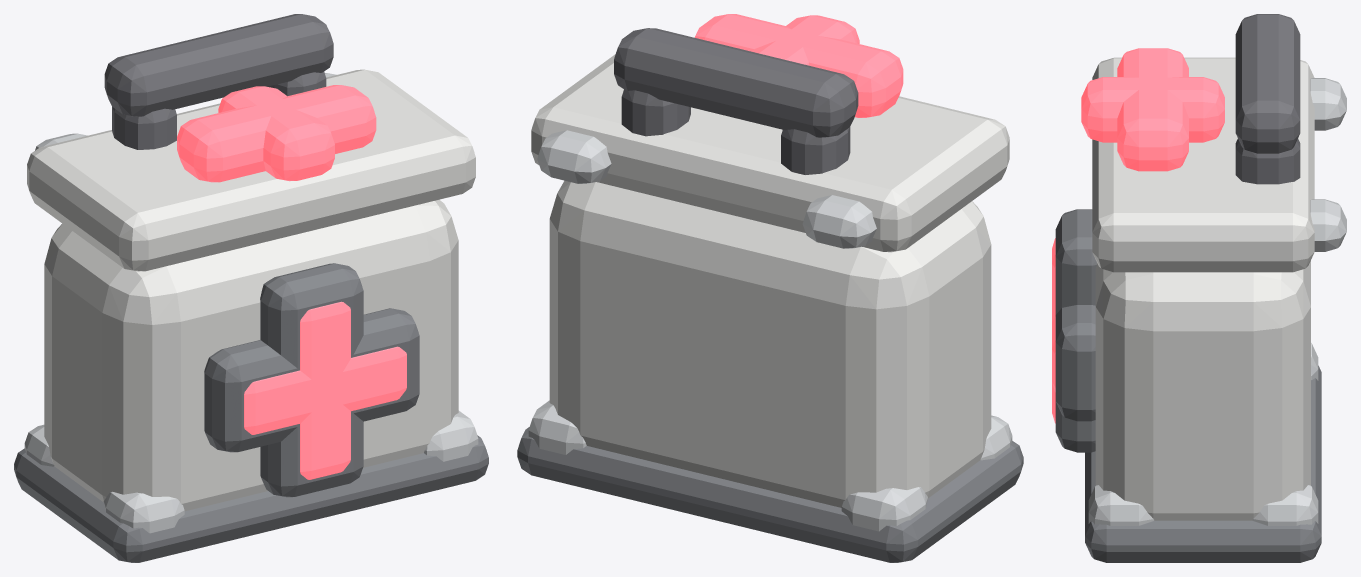
File: pickup_health_pack.glb
3 renders of one model, left to right at view 1: azimuth 30°, elevation 25°; view 2: azimuth 150°, elevation 25°; view 3: azimuth 270°, elevation 25°, orthographic. The views are drawn at different scales.
Visible parts, largest first — view 1: pickup_health_pack_body, pickup_health_pack_lid, pickup_health_pack_skirt, pickup_health_pack_handle_bar, pickup_health_pack_bezel_v, pickup_health_pack_bezel_h, pickup_health_pack_cross_top_h, pickup_health_pack_cross_v, pickup_health_pack_cross_h, pickup_health_pack_cross_top_v, pickup_health_pack_bumper_lf, pickup_health_pack_handle_post_l (+3 smaller); view 2: pickup_health_pack_body, pickup_health_pack_lid, pickup_health_pack_skirt, pickup_health_pack_handle_bar, pickup_health_pack_cross_top_h, pickup_health_pack_hinge_l, pickup_health_pack_hinge_r, pickup_health_pack_bumper_lb, pickup_health_pack_handle_post_l, pickup_health_pack_handle_post_r, pickup_health_pack_cross_top_v, pickup_health_pack_bumper_rb (+1 smaller); view 3: pickup_health_pack_body, pickup_health_pack_lid, pickup_health_pack_skirt, pickup_health_pack_handle_bar, pickup_health_pack_cross_top_h, pickup_health_pack_cross_top_v, pickup_health_pack_bezel_v, pickup_health_pack_bezel_h, pickup_health_pack_handle_post_r, pickup_health_pack_bumper_rb, pickup_health_pack_bumper_rf, pickup_health_pack_hinge_l (+2 smaller).
Boxes of the visible parts, x1,y1,x2,y2 form: pickup_health_pack_body: [44, 199, 458, 511]; pickup_health_pack_lid: [27, 69, 475, 271]; pickup_health_pack_skirt: [14, 435, 488, 562]; pickup_health_pack_handle_bar: [104, 14, 333, 116]; pickup_health_pack_bezel_v: [260, 263, 363, 497]; pickup_health_pack_bezel_h: [204, 308, 419, 452]; pickup_health_pack_cross_top_h: [177, 85, 376, 182]; pickup_health_pack_cross_v: [300, 301, 350, 479]; pickup_health_pack_cross_h: [244, 346, 406, 434]; pickup_health_pack_cross_top_v: [218, 86, 334, 181]; pickup_health_pack_bumper_lf: [103, 491, 184, 533]; pickup_health_pack_handle_post_l: [112, 107, 176, 149]; pickup_health_pack_body: [549, 180, 991, 507]; pickup_health_pack_lid: [531, 54, 1009, 252]; pickup_health_pack_skirt: [517, 427, 1023, 562]; pickup_health_pack_handle_bar: [614, 28, 858, 137]; pickup_health_pack_cross_top_h: [695, 14, 903, 117]; pickup_health_pack_hinge_l: [802, 195, 876, 248]; pickup_health_pack_hinge_r: [537, 130, 611, 183]; pickup_health_pack_bumper_lb: [841, 487, 927, 531]; pickup_health_pack_handle_post_l: [781, 127, 850, 174]; pickup_health_pack_handle_post_r: [621, 89, 690, 136]; pickup_health_pack_cross_top_v: [751, 15, 859, 65]; pickup_health_pack_bumper_rb: [528, 400, 586, 454]; pickup_health_pack_body: [1095, 260, 1310, 520]; pickup_health_pack_lid: [1092, 57, 1314, 272]; pickup_health_pack_skirt: [1085, 365, 1321, 562]; pickup_health_pack_handle_bar: [1235, 14, 1300, 153]; pickup_health_pack_cross_top_h: [1117, 48, 1188, 171]; pickup_health_pack_cross_top_v: [1081, 77, 1224, 142]; pickup_health_pack_bezel_v: [1055, 209, 1096, 452]; pickup_health_pack_bezel_h: [1055, 305, 1095, 421]; pickup_health_pack_handle_post_r: [1235, 138, 1300, 184]; pickup_health_pack_bumper_rb: [1252, 485, 1318, 525]; pickup_health_pack_bumper_rf: [1088, 485, 1154, 525]; pickup_health_pack_hinge_l: [1310, 78, 1346, 130].
Size of the model in its own units: 0.3 by 0.325 by 0.2055.
